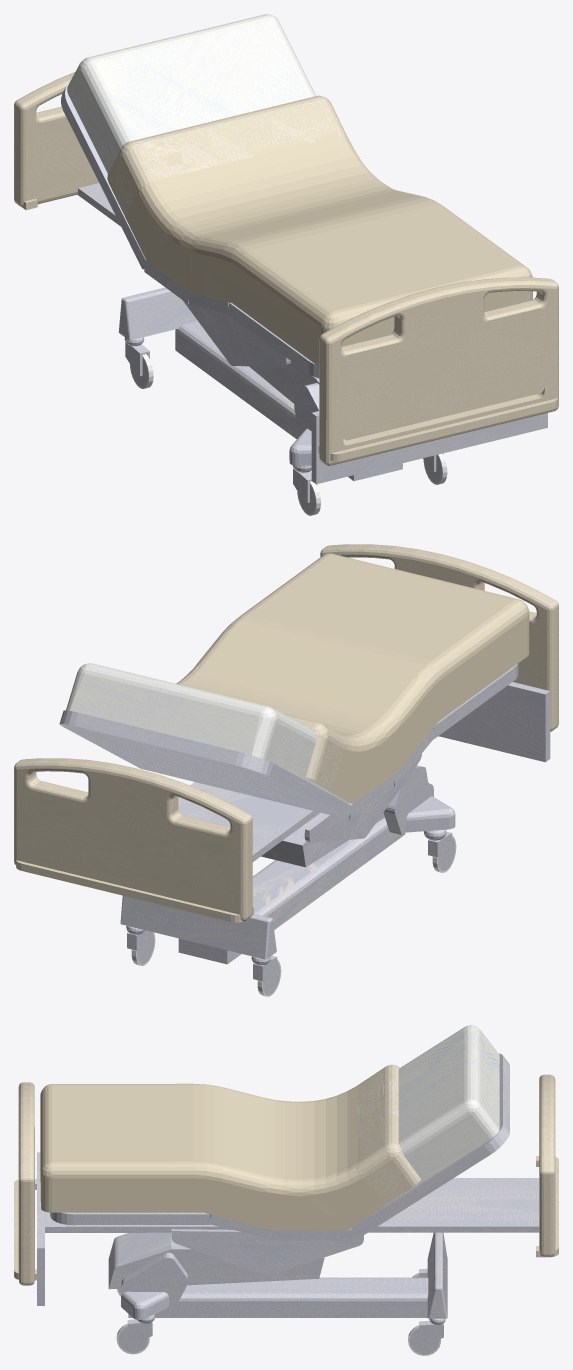
Rendered from hospitalBed.fbx.
3 renders of one model, top to bottom at view 1: azimuth 30°, elevation 25°; view 2: azimuth 150°, elevation 25°; view 3: azimuth 270°, elevation 25°, orthographic. The views are drawn at different scales.
Visible parts, largest first — view 1: instance_9; view 2: instance_9; view 3: instance_9.
Part boxes in pixels (box(x1,y1,x2,y2)): instance_9: box(14, 14, 558, 515); instance_9: box(14, 544, 558, 996); instance_9: box(14, 1025, 558, 1355).
Size of the model in its own units: 95.68 by 122 by 226.
